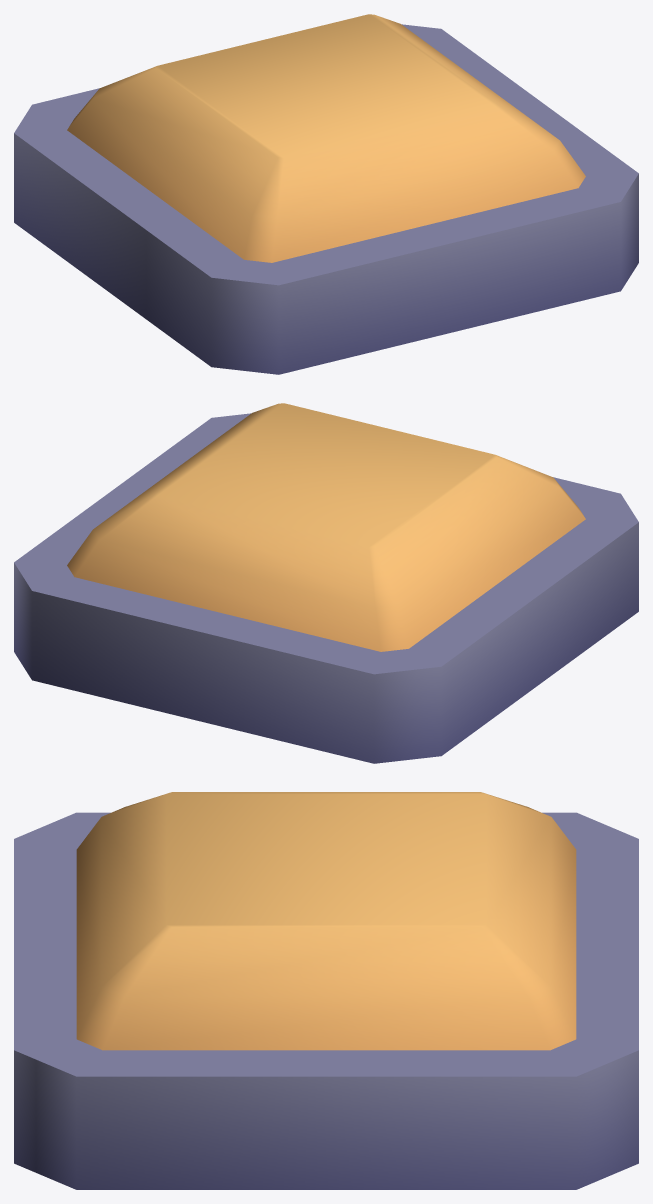
The model's file is kenney-factory-button-floor-square-small.glb.
The picture shows the model from 3 angles, top to bottom: view 1: azimuth 30°, elevation 25°; view 2: azimuth 150°, elevation 25°; view 3: azimuth 270°, elevation 25°; orthographic projection. The views are drawn at different scales.
Visible parts, largest first — view 1: button-floor-square-small, button; view 2: button-floor-square-small, button; view 3: button, button-floor-square-small.
Part boxes in pixels (box(x1,y1,x2,y2)): button-floor-square-small: box(14, 24, 638, 374); button: box(67, 14, 585, 262); button-floor-square-small: box(14, 413, 638, 763); button: box(67, 403, 585, 651); button: box(76, 792, 576, 1050); button-floor-square-small: box(14, 812, 638, 1189).
Bounding box in the file's own units: 0.75 × 0.2625 × 0.75.
Materials: 1 (1 with a texture image).
